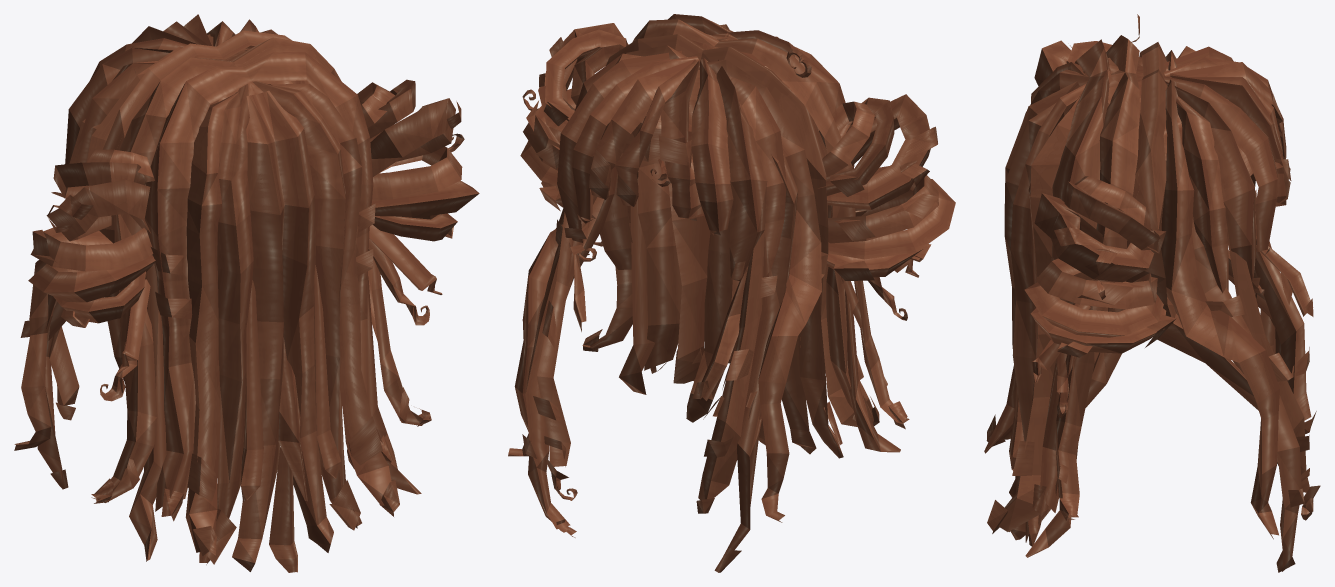
3 renders of one model, left to right at view 1: azimuth 30°, elevation 25°; view 2: azimuth 150°, elevation 25°; view 3: azimuth 270°, elevation 25°, orthographic. The views are drawn at different scales.
Parts seen in each view (by area): view 1: geometry_0; view 2: geometry_0; view 3: geometry_0.
Boxes of the visible parts, box(x1,y1,x2,y2) form: geometry_0: box(14, 14, 479, 572); geometry_0: box(508, 14, 955, 572); geometry_0: box(984, 14, 1320, 572).
Bounding box in the file's own units: 2.89 × 3.13 × 2.
1 material, 1 textured.
